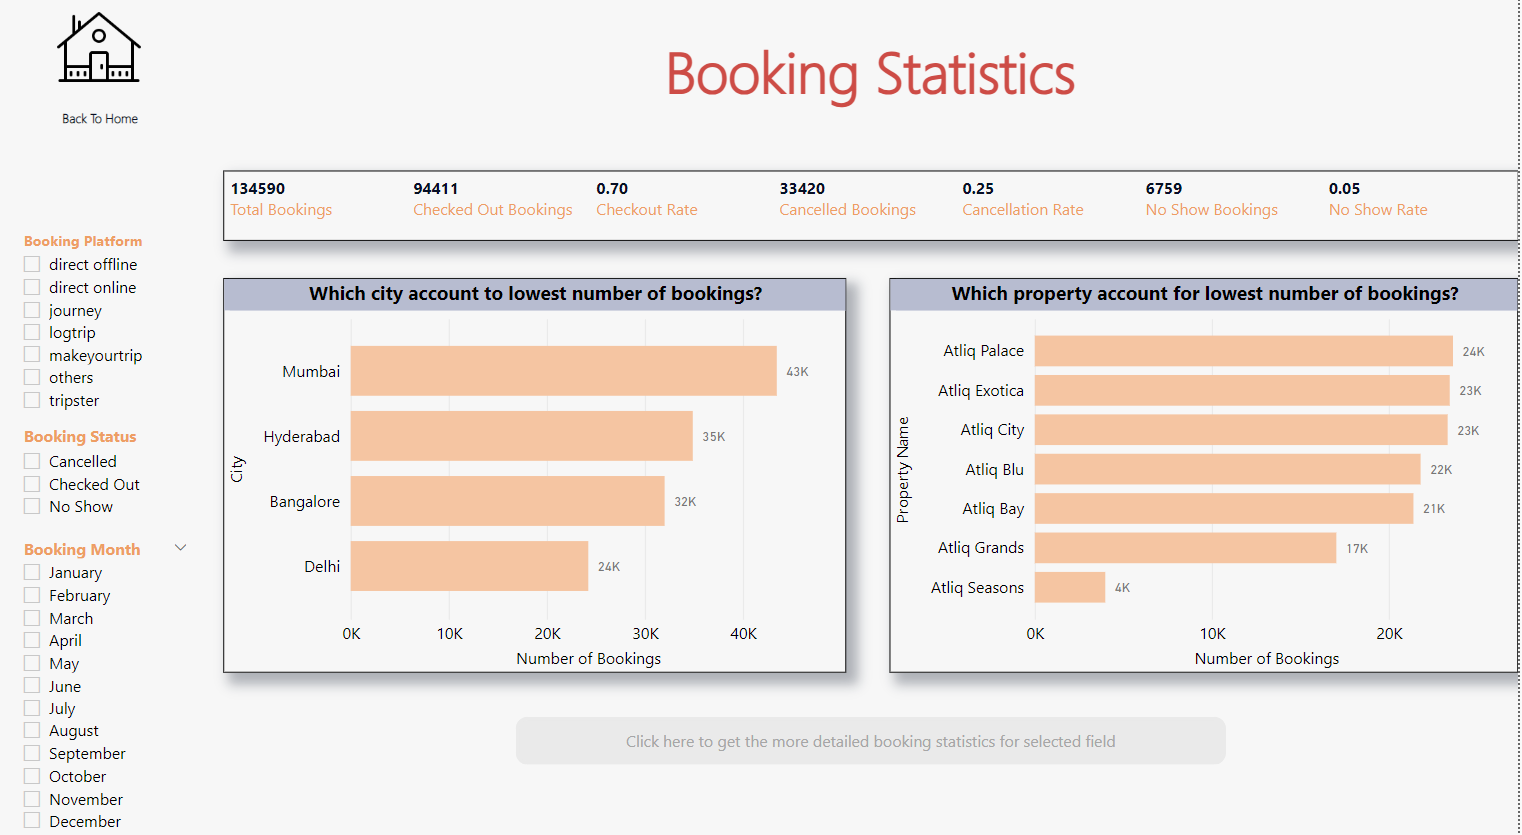

This screenshot's page, from the dashboard's own definition file:
{"tool":"powerbi","page":{"name":"Booking Stats Main","canvas":[1280,720],"ordinal":3},"visuals":[{"type":"barChart","title":"Which city account to lowest number of bookings?","fields":{"Y":["CountNonNull(fact_bookings.booking_id)"],"Category":["dim_hotels.city"]},"box":[190.1,235.6,523.8,332],"z":0},{"type":"clusteredBarChart","title":"Which property account for lowest number of bookings?","fields":{"Y":["CountNonNull(fact_bookings.booking_id)"],"Category":["dim_hotels.property_name"]},"box":[750.7,235.6,529.1,332],"z":1000},{"type":"textbox","box":[303.9,22.8,861.9,85],"z":2000},{"type":"image","box":[35.9,0,101.6,85],"z":3000},{"type":"textbox","box":[31.5,85,110.4,33.3],"z":4000},{"type":"multiRowCard","fields":{"Values":["fact_bookings.Total_Bookings","fact_bookings.Total_Checked_Out_Bookings","fact_bookings.Checkout_Rate","fact_bookings.Total_Cancelled_Bookings","fact_bookings.Cancellation_Rate","fact_bookings.Total_No_Show_Bookings","fact_bookings.No_Show_Rate"]},"box":[190.1,145.4,1089.6,59.6],"z":5000},{"type":"actionButton","box":[436.2,604.4,597.4,40.3],"z":6000},{"type":"slicer","fields":{"Values":["fact_bookings.booking_status"]},"box":[9.6,353.9,162.9,95.5],"z":7000},{"type":"slicer","fields":{"Values":["fact_bookings.booking_platform"]},"box":[9.6,191.8,162.9,169.9],"z":8000},{"type":"slicer","fields":{"Values":["fact_bookings.booking_date.Variation.Date Hierarchy.Month"]},"box":[9.6,449.3,162.9,270.7],"z":9000}]}

Visuals, with their boxes in screenshot pixels (x1, y1, x2, y2), scaled from the page's 1280x720 canvas onto the 1522x835 screenshot:
"Which city account to lowest number of bookings?" barChart: Rect(226, 273, 849, 658)
"Which property account for lowest number of bookings?" clusteredBarChart: Rect(893, 273, 1521, 658)
textbox: Rect(361, 26, 1386, 125)
image: Rect(43, 0, 163, 99)
textbox: Rect(37, 99, 169, 137)
multiRowCard - fact_bookings.Total_Bookings x fact_bookings.Total_Checked_Out_Bookings: Rect(226, 169, 1521, 238)
actionButton: Rect(519, 701, 1229, 748)
slicer - fact_bookings.booking_status: Rect(11, 410, 205, 521)
slicer - fact_bookings.booking_platform: Rect(11, 222, 205, 419)
slicer - fact_bookings.booking_date.Variation.Date Hierarchy.Month: Rect(11, 521, 205, 834)
